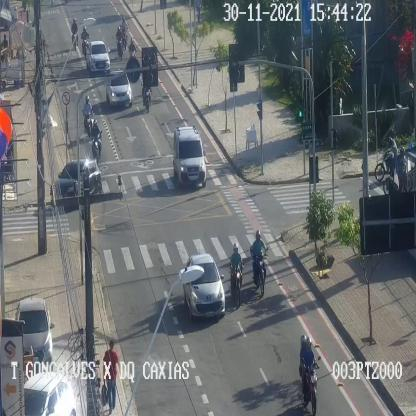car: (184, 255, 226, 318), (173, 125, 208, 190), (51, 161, 102, 205), (106, 70, 132, 110), (87, 41, 111, 73)
motorbike: (299, 332, 319, 414), (382, 146, 413, 197), (250, 230, 268, 298), (374, 138, 400, 180), (230, 243, 243, 308), (90, 120, 102, 163), (82, 96, 92, 134), (80, 25, 89, 59), (115, 27, 124, 60), (70, 16, 78, 50), (128, 38, 136, 58)
person: (15, 298, 54, 366), (24, 372, 76, 416), (104, 341, 118, 413)
